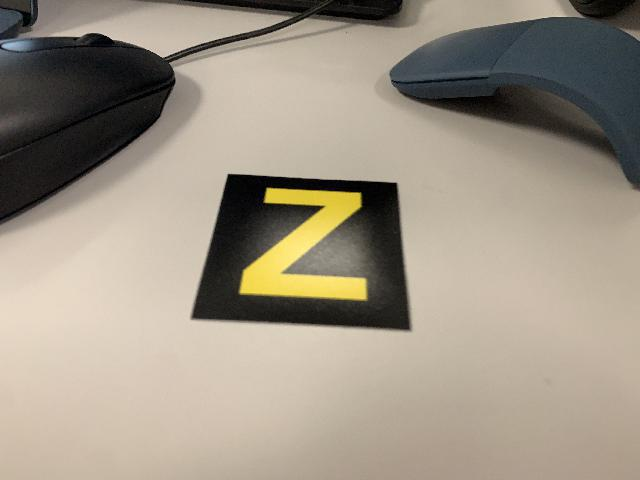z: (190, 172, 414, 333)
